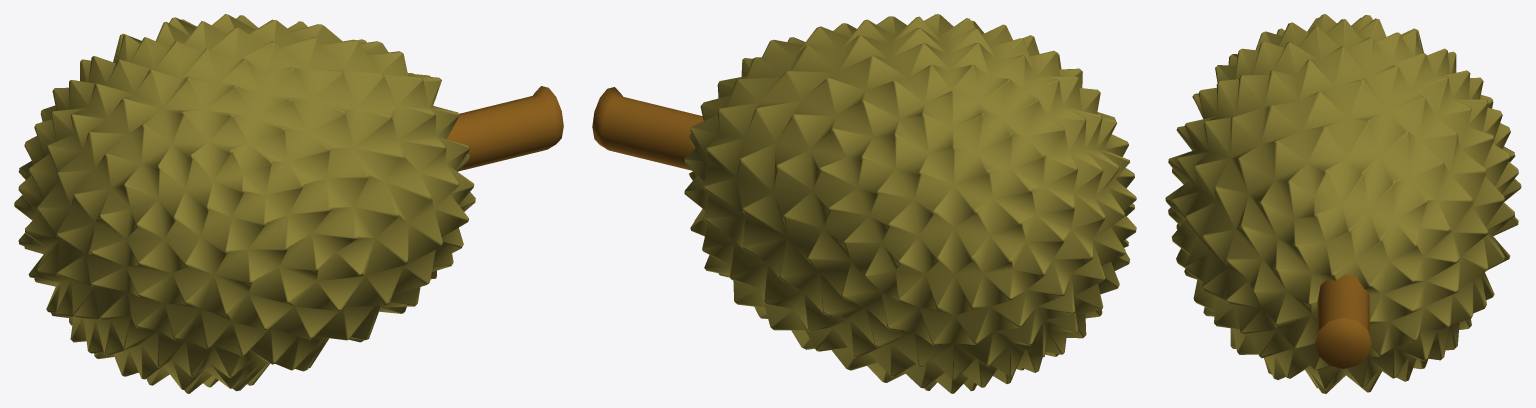
File: Durian.fbx
The picture shows the model from 3 angles, left to right: view 1: azimuth 30°, elevation 25°; view 2: azimuth 150°, elevation 25°; view 3: azimuth 270°, elevation 25°; orthographic projection. The views are drawn at different scales.
Visible parts, largest first — view 1: pPlatonic2; view 2: pPlatonic2; view 3: pPlatonic2.
Boxes of the visible parts, box(x1,y1,x2,y2) form: pPlatonic2: box(14, 14, 563, 393); pPlatonic2: box(592, 14, 1136, 393); pPlatonic2: box(1165, 14, 1521, 393).
Size of the model in its own units: 15.16 by 9.72 by 9.86.
1 material, 1 textured.
